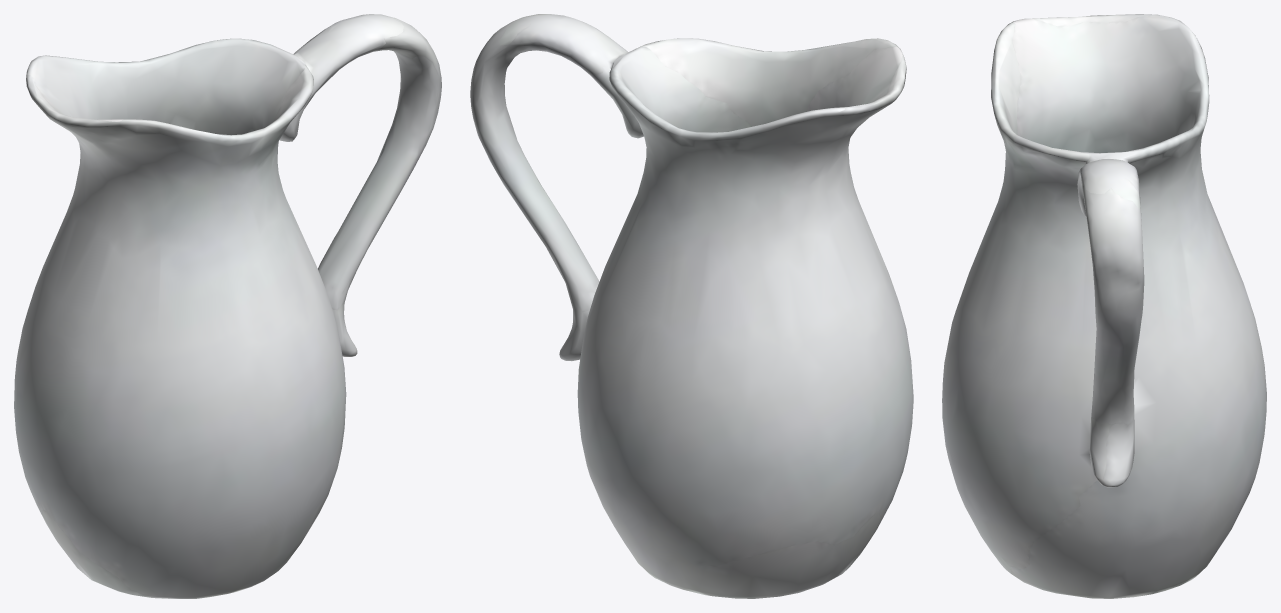
The model's file is Threshold_Porcelain_Pitcher_White-high.glb.
3 views of the same model, side by side, from view 1: azimuth 30°, elevation 25°; view 2: azimuth 150°, elevation 25°; view 3: azimuth 270°, elevation 25° (orthographic). The views are drawn at different scales.
Parts seen in each view (by area): view 1: Threshold_Porcelain_Pitcher_White; view 2: Threshold_Porcelain_Pitcher_White; view 3: Threshold_Porcelain_Pitcher_White.
Boxes of the visible parts, left/top/right/bottom form: Threshold_Porcelain_Pitcher_White: left=14, top=14, right=441, bottom=598; Threshold_Porcelain_Pitcher_White: left=470, top=14, right=913, bottom=598; Threshold_Porcelain_Pitcher_White: left=942, top=14, right=1266, bottom=598.
Bounding box in the file's own units: 0.2388 × 0.2784 × 0.1688.
1 material, 1 textured.
